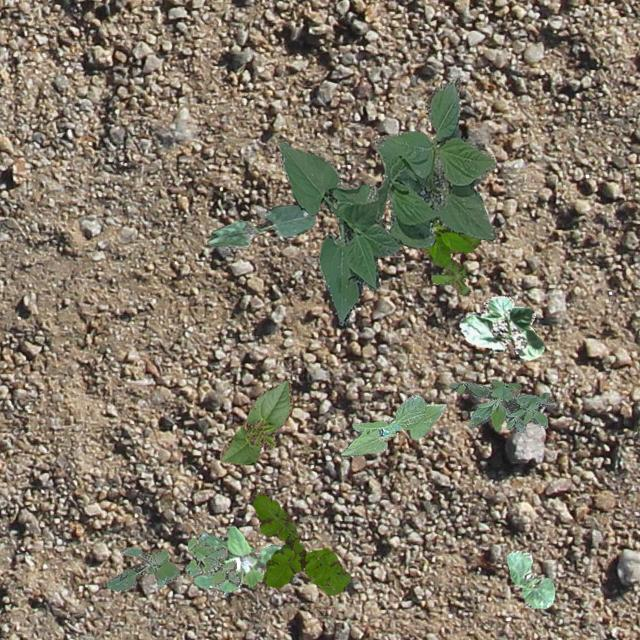crop: (278, 76, 496, 324), (339, 394, 444, 456), (218, 379, 290, 464), (458, 296, 544, 358), (206, 204, 314, 248), (504, 550, 554, 608)
weed: (252, 490, 348, 594), (192, 524, 280, 594), (448, 380, 554, 432), (419, 218, 484, 294), (105, 546, 178, 590), (185, 536, 238, 586)
